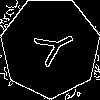Y: (25, 22, 79, 73)
